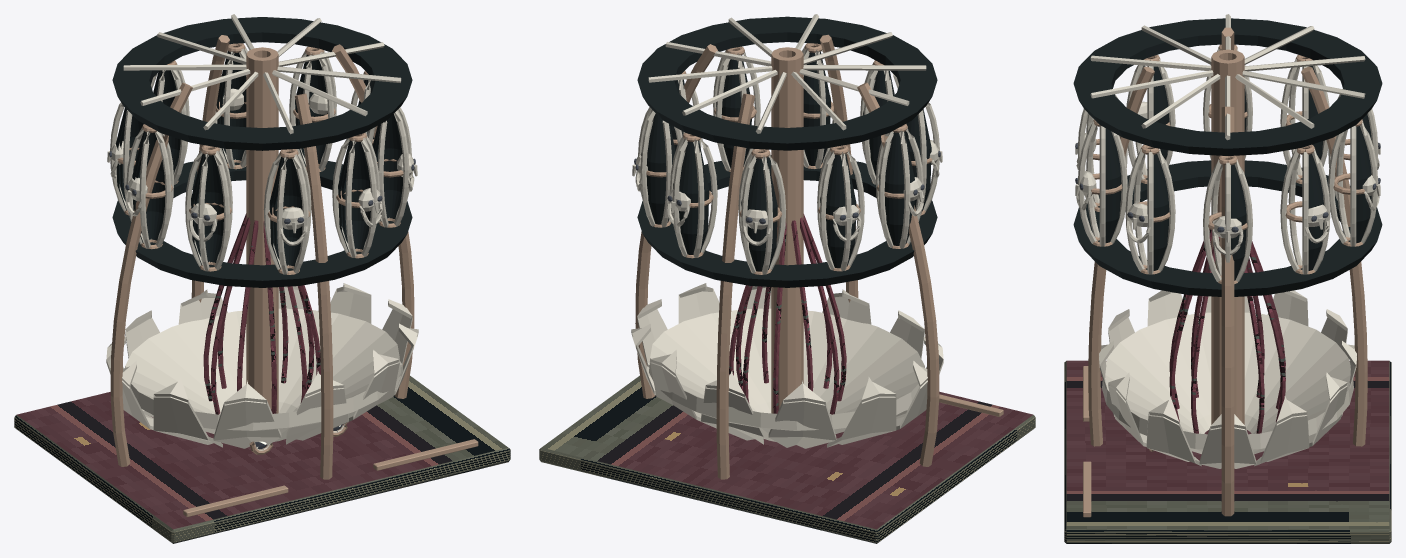
Rendered from reliquary_memory_wheel.glb.
3 views of the same model, side by side, from view 1: azimuth 30°, elevation 25°; view 2: azimuth 150°, elevation 25°; view 3: azimuth 270°, elevation 25° (orthographic). The views are drawn at different scales.
Visible parts, largest first — view 1: reliquary_memory_wheel_petrol, reliquary_memory_wheel_warm, reliquary_memory_wheel_worn, reliquary_memory_wheel_bruised; view 2: reliquary_memory_wheel_petrol, reliquary_memory_wheel_warm, reliquary_memory_wheel_worn, reliquary_memory_wheel_bruised; view 3: reliquary_memory_wheel_petrol, reliquary_memory_wheel_warm, reliquary_memory_wheel_worn, reliquary_memory_wheel_bruised.
Boxes of the visible parts, x1,y1,x2,y2 form: reliquary_memory_wheel_petrol: (14, 17, 510, 543); reliquary_memory_wheel_warm: (106, 14, 418, 450); reliquary_memory_wheel_worn: (110, 35, 478, 517); reliquary_memory_wheel_bruised: (203, 213, 320, 414); reliquary_memory_wheel_petrol: (539, 16, 1035, 543); reliquary_memory_wheel_warm: (631, 14, 943, 448); reliquary_memory_wheel_worn: (635, 34, 1003, 479); reliquary_memory_wheel_bruised: (729, 214, 846, 414); reliquary_memory_wheel_petrol: (1064, 18, 1391, 543); reliquary_memory_wheel_warm: (1075, 14, 1380, 468); reliquary_memory_wheel_worn: (1083, 27, 1367, 517); reliquary_memory_wheel_bruised: (1169, 229, 1285, 433).
Size of the model in its own units: 5.85 by 6.45 by 4.75.
6 materials, 2 textured.
